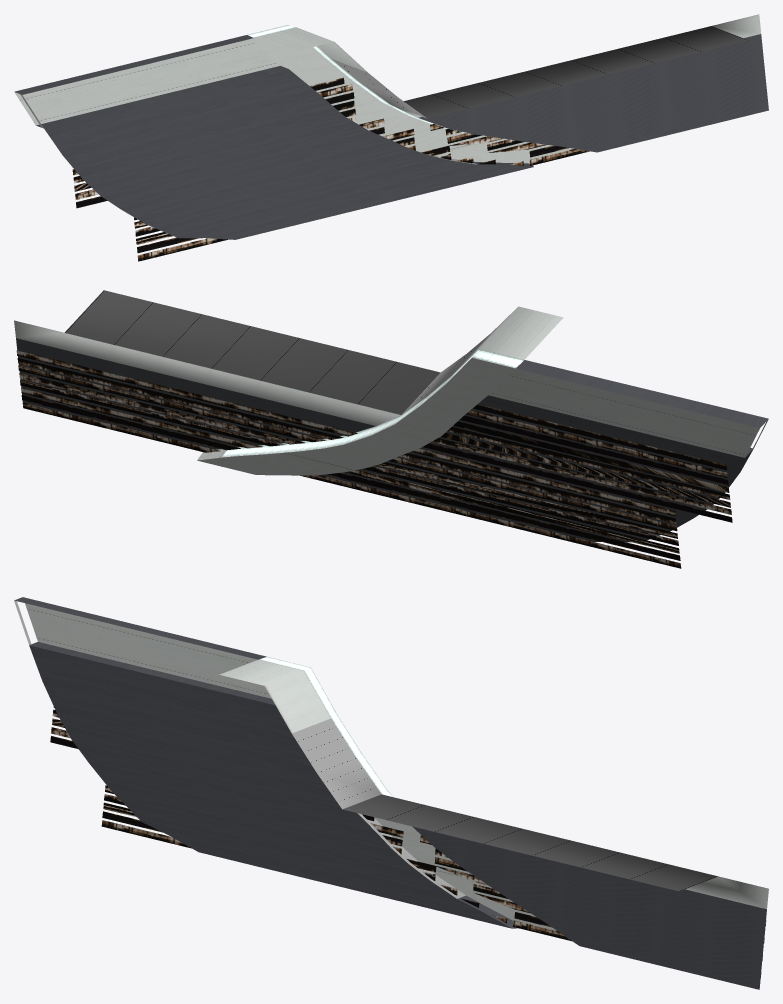
Rendered from STA20_endbuilding01.FBX.
3 renders of one model, top to bottom at view 1: azimuth 30°, elevation 25°; view 2: azimuth 150°, elevation 25°; view 3: azimuth 330°, elevation 25°, orthographic. The views are drawn at different scales.
Visible parts, largest first — view 1: STA20_endbuilding01; view 2: STA20_endbuilding01; view 3: STA20_endbuilding01.
Part boxes in pixels (x1,y1,x2,y2): STA20_endbuilding01: (14,14,768,261); STA20_endbuilding01: (14,290,768,568); STA20_endbuilding01: (14,597,768,989).
Bounding box in the file's own units: 314 × 80.6 × 40.85.
